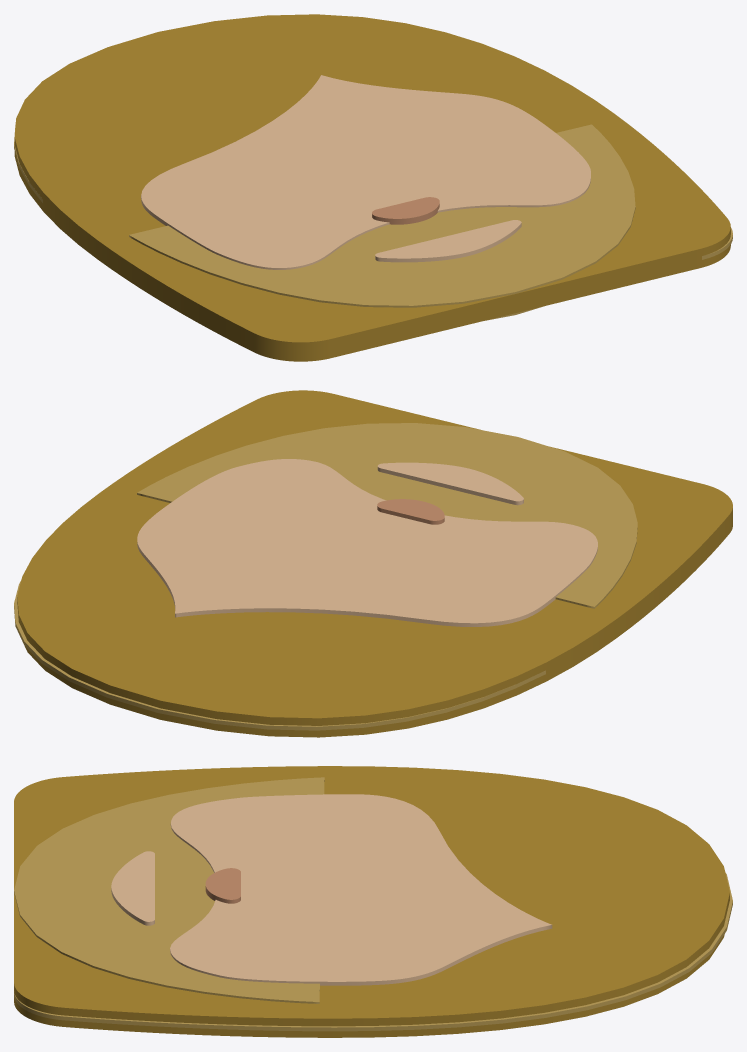
The model's file is emoji_u1f9d4_1f3fc_200d_2640.glb.
3 views of the same model, one above another, from view 1: azimuth 30°, elevation 25°; view 2: azimuth 150°, elevation 25°; view 3: azimuth 270°, elevation 25° (orthographic).
Parts seen in each view (by area): view 1: emoji_u1f9d4_1f3fc_200d_2640; view 2: emoji_u1f9d4_1f3fc_200d_2640; view 3: emoji_u1f9d4_1f3fc_200d_2640.
Part boxes in pixels (x1,y1,x2,y2): emoji_u1f9d4_1f3fc_200d_2640: (14,14,732,361); emoji_u1f9d4_1f3fc_200d_2640: (14,390,732,737); emoji_u1f9d4_1f3fc_200d_2640: (14,766,732,1037).
Size of the model in its own units: 0.0283 by 0.0018 by 0.0339.
